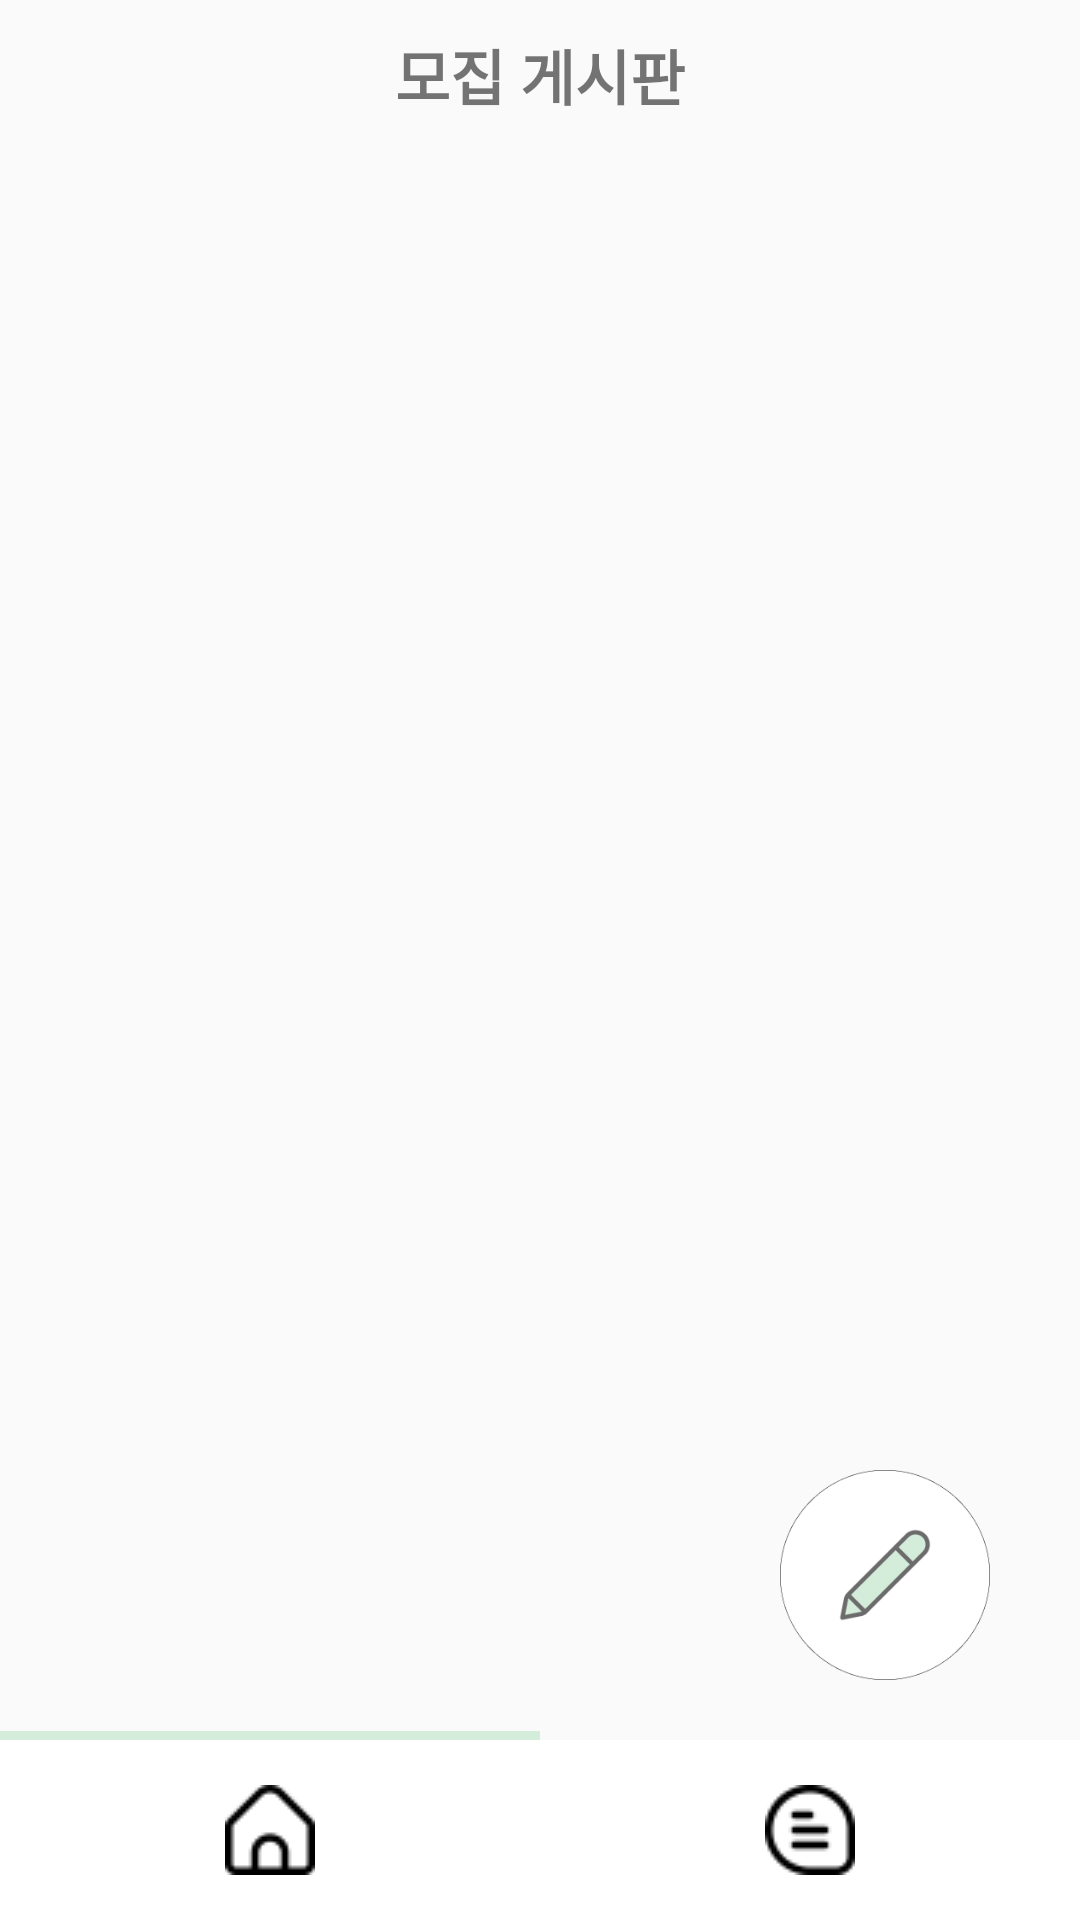

Locate icon controls on the screen. Image size 1080px x 1920px, boxes as (x1, y1, x2, y2).
bottom hometap: (225, 1785, 315, 1875)
bottom talk: (765, 1785, 855, 1875)
homewrite: (780, 1470, 990, 1680)
